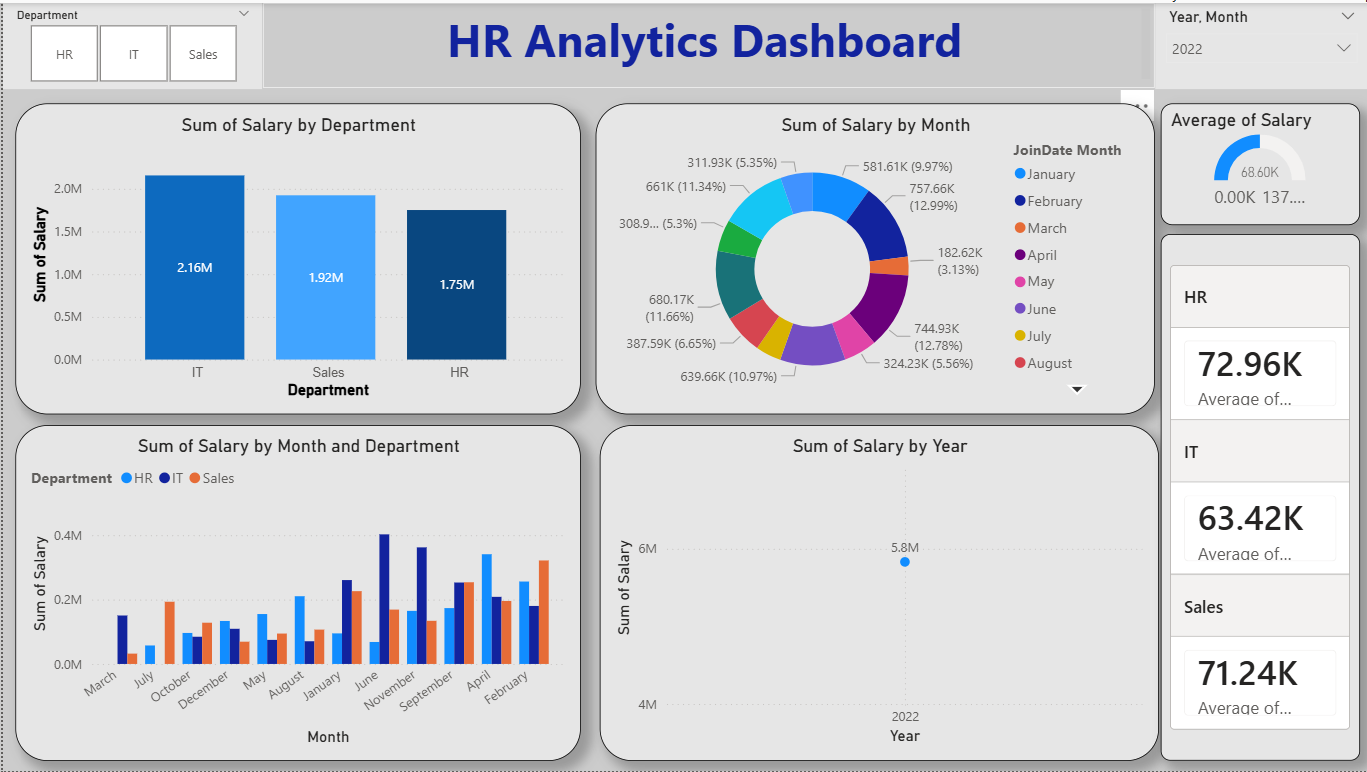

Layout of this report page (visuals, bound fields, positions):
{"tool":"powerbi","page":{"name":"Page 1","canvas":[1280,720],"ordinal":0},"visuals":[{"type":"slicer","fields":{"Values":["Sheet1.Department"]},"box":[0,0,243.2,80.4],"z":0},{"type":"textbox","box":[243.2,0,837.2,80.4],"z":1000},{"type":"slicer","fields":{"Values":["Sheet1.JoinDate.Variation.Date Hierarchy.Year","Sheet1.JoinDate.Variation.Date Hierarchy.Month"]},"box":[1080.4,0,199.6,80.4],"z":2000},{"type":"clusteredColumnChart","fields":{"Y":["Sum(Sheet1.Salary)"],"Category":["Sheet1.Department"]},"box":[11.6,94,530,291.7],"z":3000},{"type":"donutChart","fields":{"Y":["Sum(Sheet1.Salary)"],"Category":["Sheet1.JoinDate.Variation.Date Hierarchy.Month"]},"box":[556.2,94,524.2,291.7],"z":4000},{"type":"clusteredColumnChart","fields":{"Y":["Sum(Sheet1.Salary)"],"Category":["Sheet1.JoinDate.Variation.Date Hierarchy.Month"],"Series":["Sheet1.Department"]},"box":[11.6,395.3,530,314.9],"z":5000},{"type":"areaChart","fields":{"Category":["Sheet1.JoinDate.Variation.Date Hierarchy.Year"],"Y":["Sum(Sheet1.Salary)"]},"box":[559.1,395.3,524.2,314.9],"z":6000},{"type":"gauge","fields":{"Y":["Avg(Sheet1.Salary)"]},"box":[1086.2,94,187,114.3],"z":7000},{"type":"cardVisual","fields":{"Data":["Avg(Sheet1.Salary)"],"Rows":["Sheet1.Department"]},"box":[1086.2,216.1,187,494.2],"z":8000}]}

Visuals, with their boxes in screenshot pixels (x1, y1, x2, y2), scaled from the page's 1280x720 canvas onto the 1367x772 screenshot:
slicer - Sheet1.Department: {"left": 0, "top": 0, "right": 260, "bottom": 86}
textbox: {"left": 260, "top": 0, "right": 1154, "bottom": 86}
slicer - Sheet1.JoinDate.Variation.Date Hierarchy.Year x Sheet1.JoinDate.Variation.Date Hierarchy.Month: {"left": 1154, "top": 0, "right": 1366, "bottom": 86}
clusteredColumnChart - Sum(Sheet1.Salary) x Sheet1.Department: {"left": 12, "top": 101, "right": 578, "bottom": 414}
donutChart - Sum(Sheet1.Salary) x Sheet1.JoinDate.Variation.Date Hierarchy.Month: {"left": 594, "top": 101, "right": 1154, "bottom": 414}
clusteredColumnChart - Sum(Sheet1.Salary) x Sheet1.JoinDate.Variation.Date Hierarchy.Month: {"left": 12, "top": 424, "right": 578, "bottom": 761}
areaChart - Sheet1.JoinDate.Variation.Date Hierarchy.Year x Sum(Sheet1.Salary): {"left": 597, "top": 424, "right": 1157, "bottom": 761}
gauge - Avg(Sheet1.Salary): {"left": 1160, "top": 101, "right": 1360, "bottom": 223}
cardVisual - Avg(Sheet1.Salary) x Sheet1.Department: {"left": 1160, "top": 232, "right": 1360, "bottom": 762}
